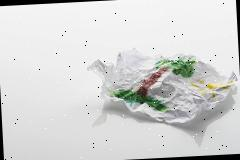paper: (87, 41, 240, 128)
